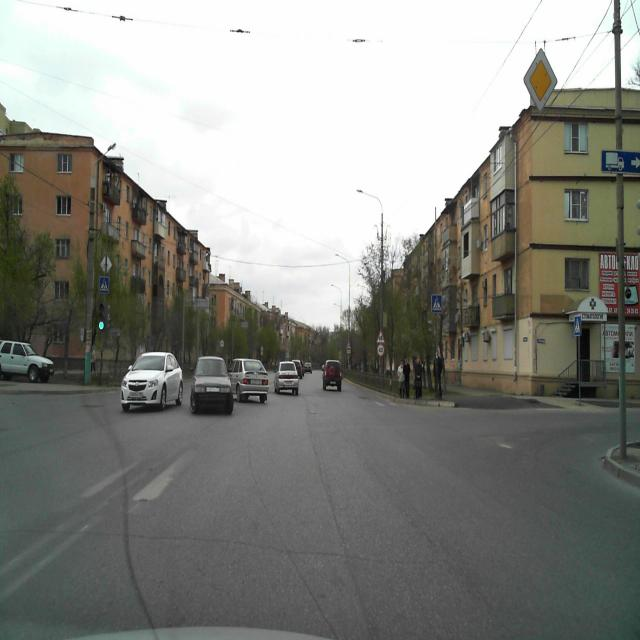road sign: (522, 47, 558, 111), (602, 148, 640, 175), (572, 311, 583, 338), (431, 294, 442, 312), (99, 277, 108, 293), (375, 329, 384, 342)
